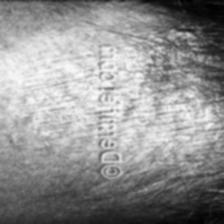Non-Cancerous Skin Condition: (125, 23, 224, 161), (17, 38, 94, 144)
